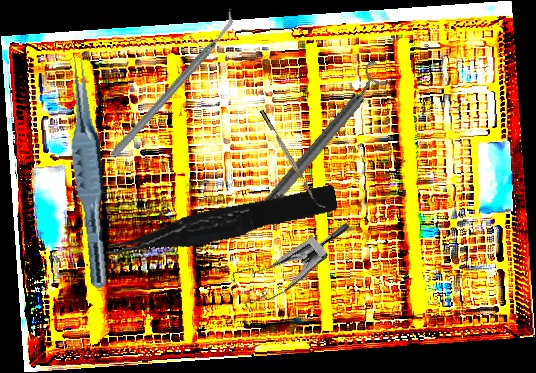Chopper: (77, 6, 270, 160), (259, 106, 327, 212)
Fixation Ring: (241, 58, 397, 230)
Speculum: (219, 186, 353, 329)
Tissue Forceps: (104, 184, 340, 261), (58, 55, 121, 290)
